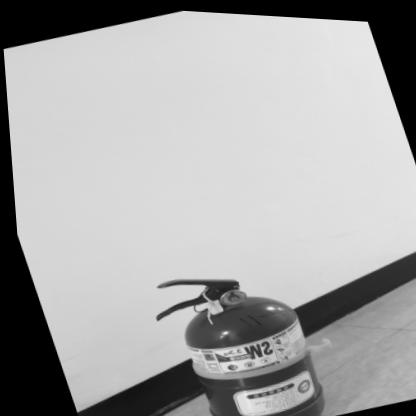FE: (139, 246, 326, 416)
